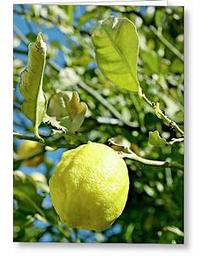lemon: (49, 144, 129, 229)
